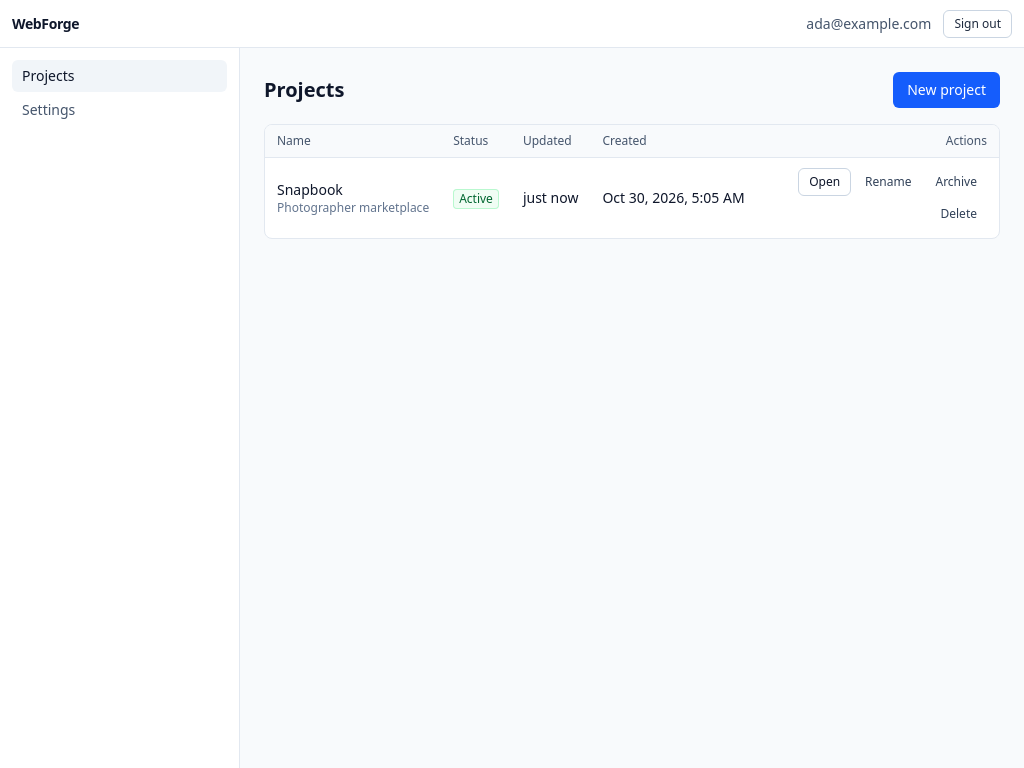
Test: dialog focus management › traps Tab inside the dialog, lands on the safe action first, and restores focus on Escape
This screenshot has width=1024, height=768.
Click the button with aria-label "Delete Snapbook" at point(959, 214), box [930, 200, 987, 228]
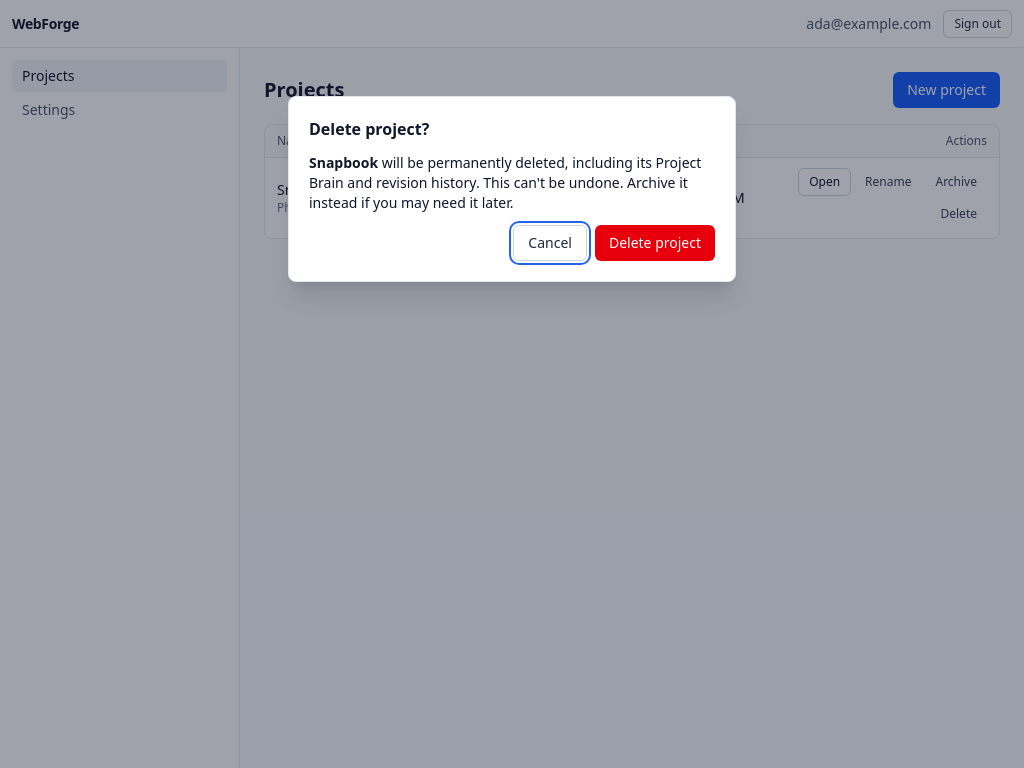
Press Tab
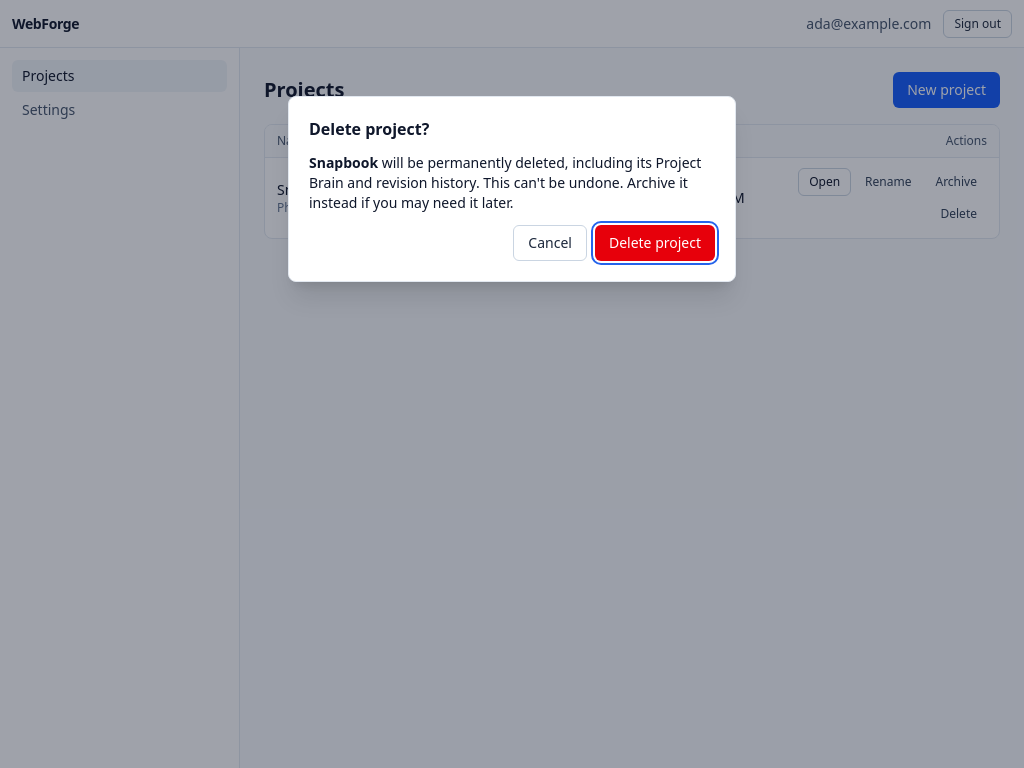
Press Tab
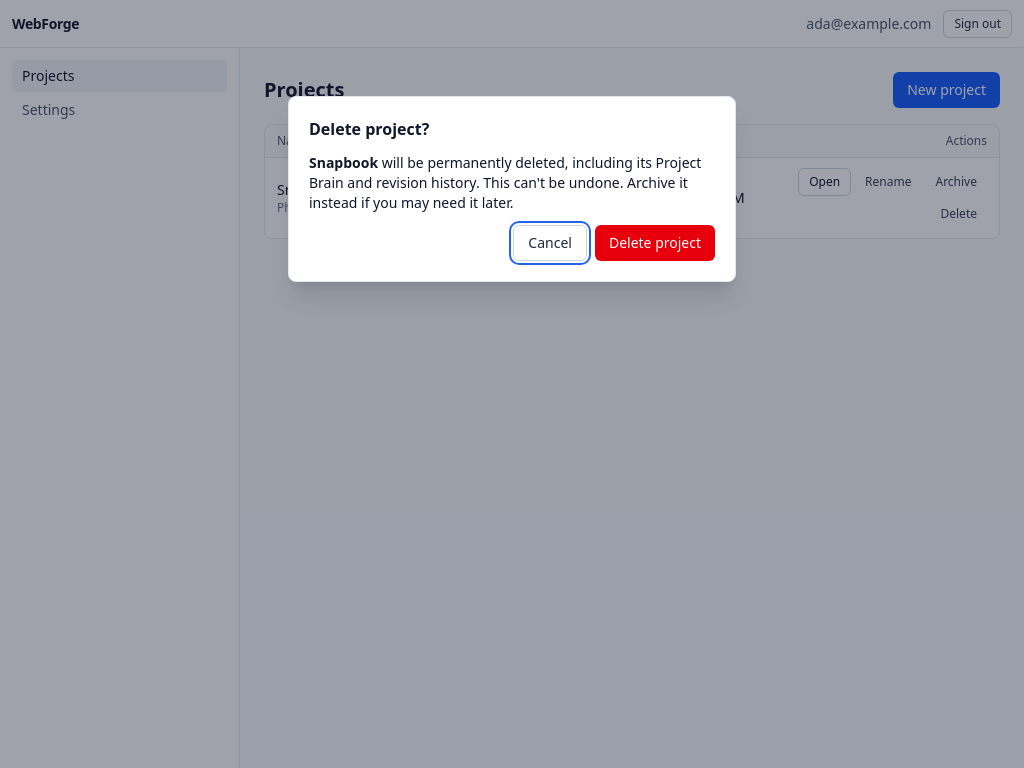
Press Shift+Tab
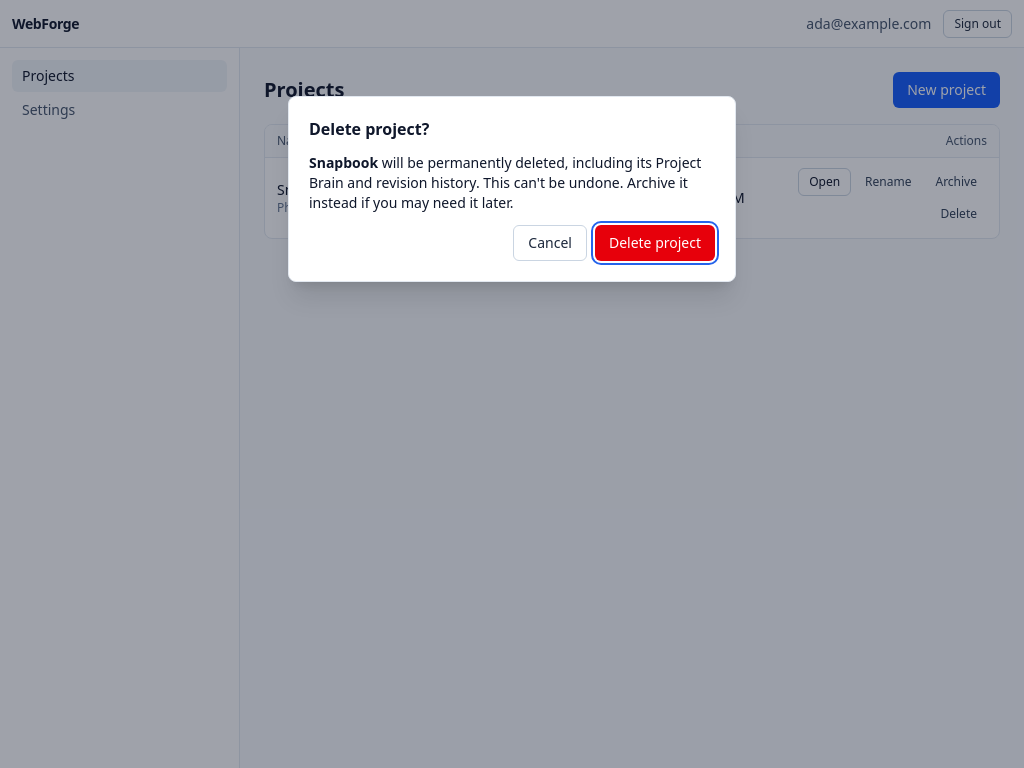
Press Escape
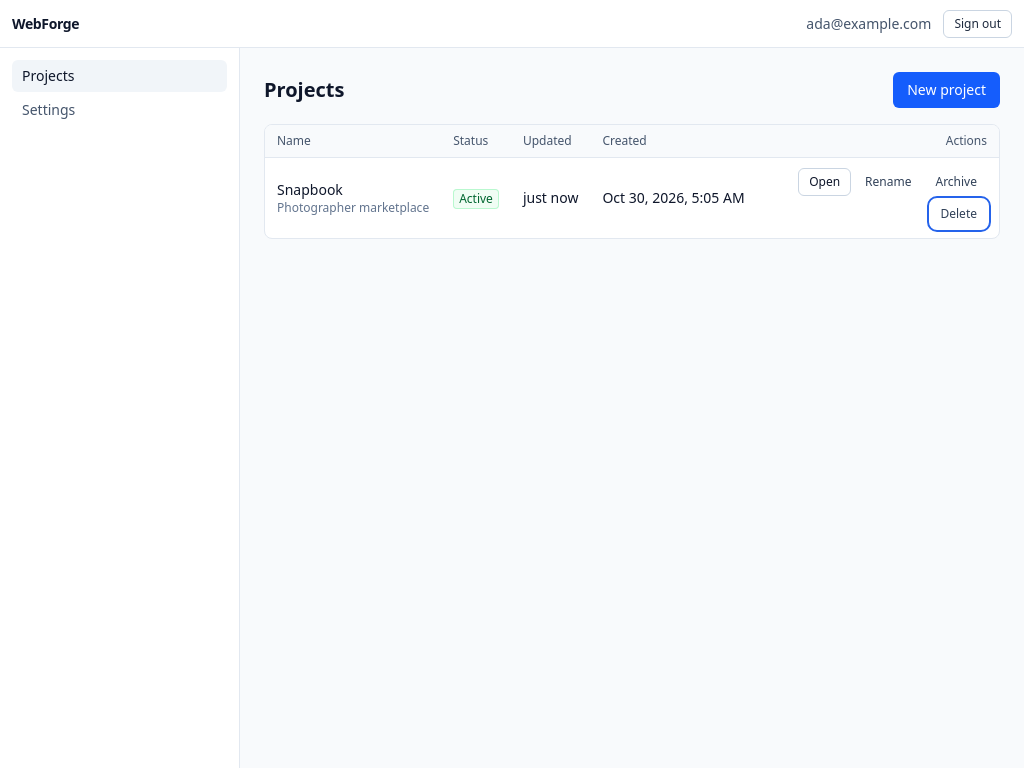
Check: the dialog is gone
